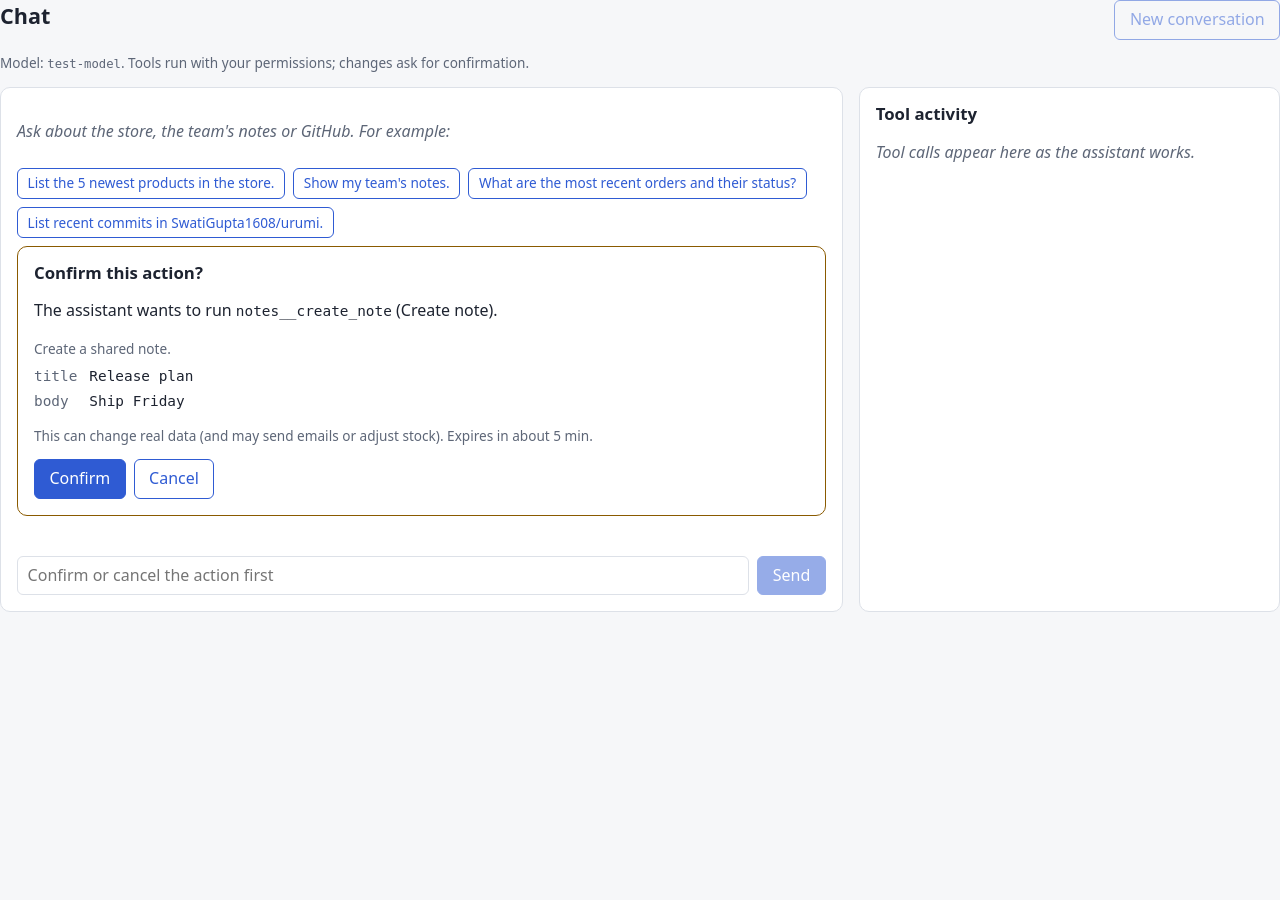
Scenario: chat page › cancels a pending action
What coordinates should you click on to do the following:
click the button "Cancel"
I would click on:
 (174, 479)
Its box is [134,459,214,499].
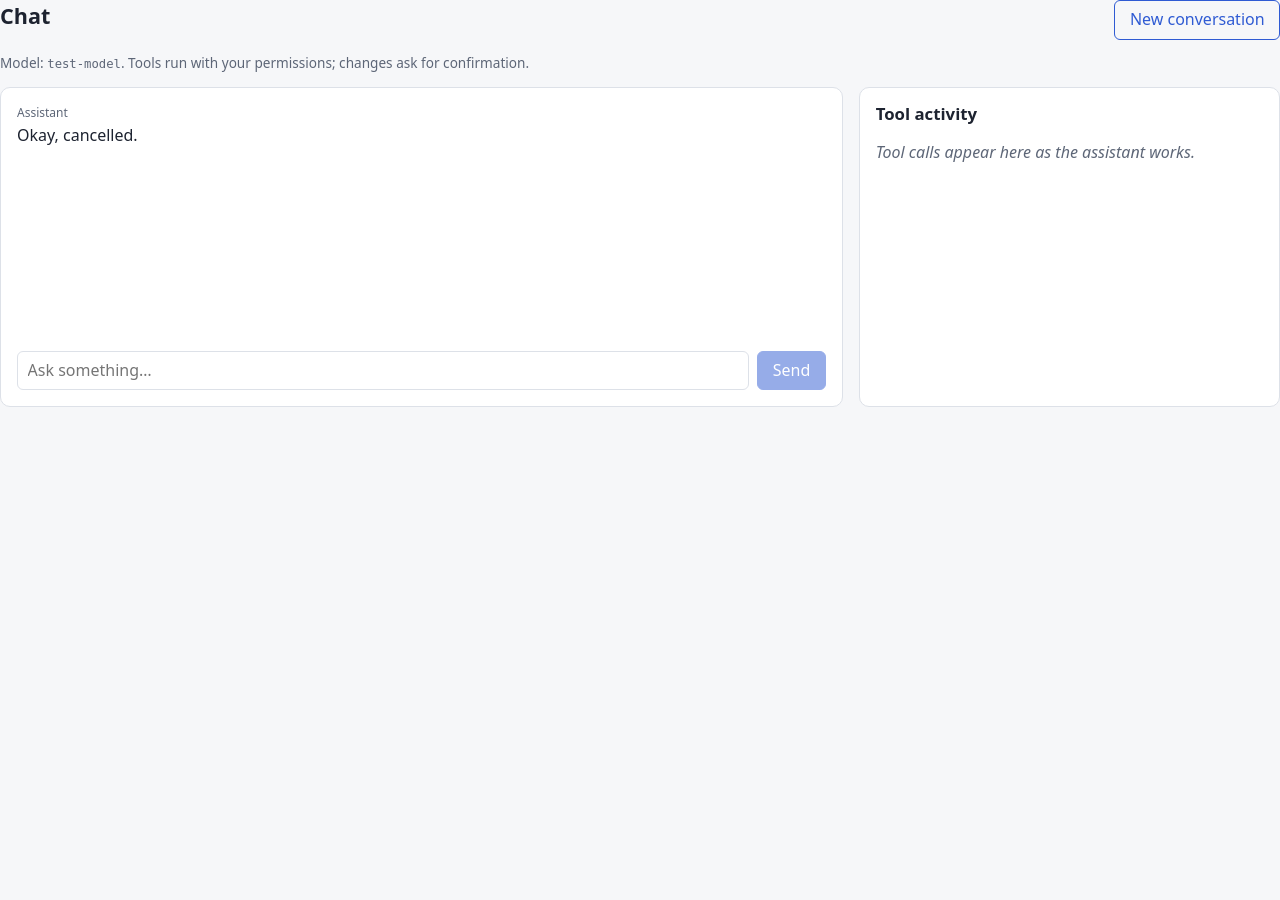
Expected: the text "Okay, cancelled." is shown, [17,124,138,146]
